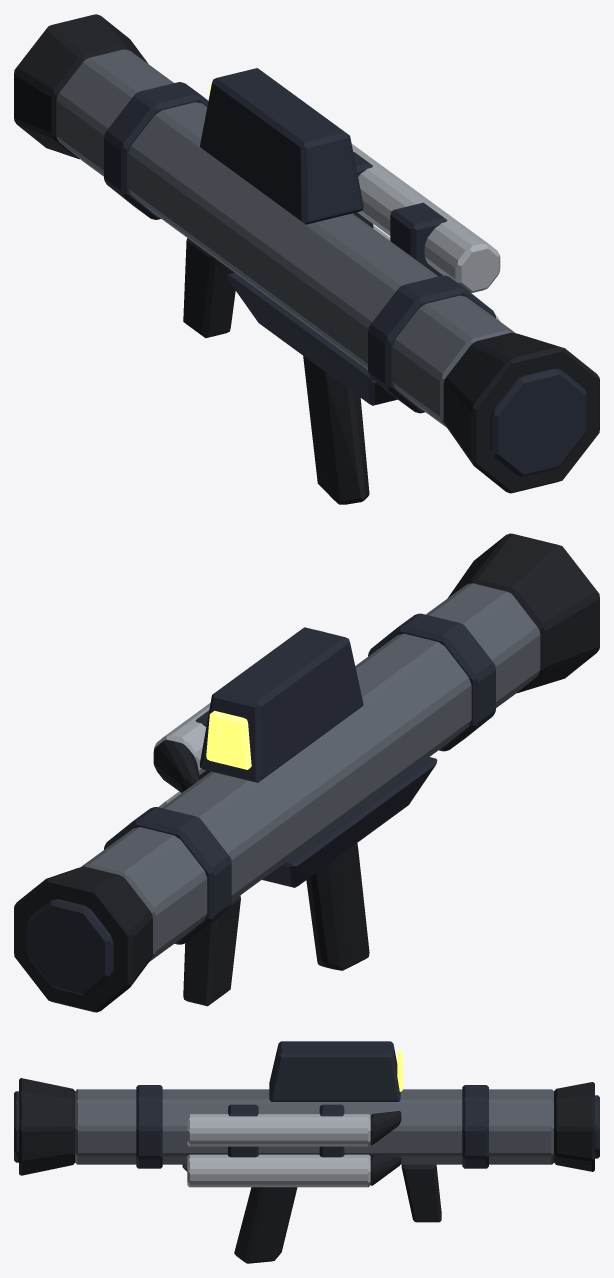
Rendered from w_b_support_bazooka.glb.
The picture shows the model from 3 angles, top to bottom: view 1: azimuth 30°, elevation 25°; view 2: azimuth 150°, elevation 25°; view 3: azimuth 270°, elevation 25°; orthographic projection. The views are drawn at different scales.
Visible parts, largest first — view 1: weapon_body; view 2: weapon_body, weapon; view 3: weapon_body.
Boxes of the visible parts, <box> form: weapon_body: <box>14,14,599,504</box>; weapon_body: <box>14,533,599,1012</box>; weapon: <box>206,710,251,769</box>; weapon_body: <box>14,1041,599,1263</box>.
Bounding box in the file's own units: 1.51 × 2.99 × 7.48.
